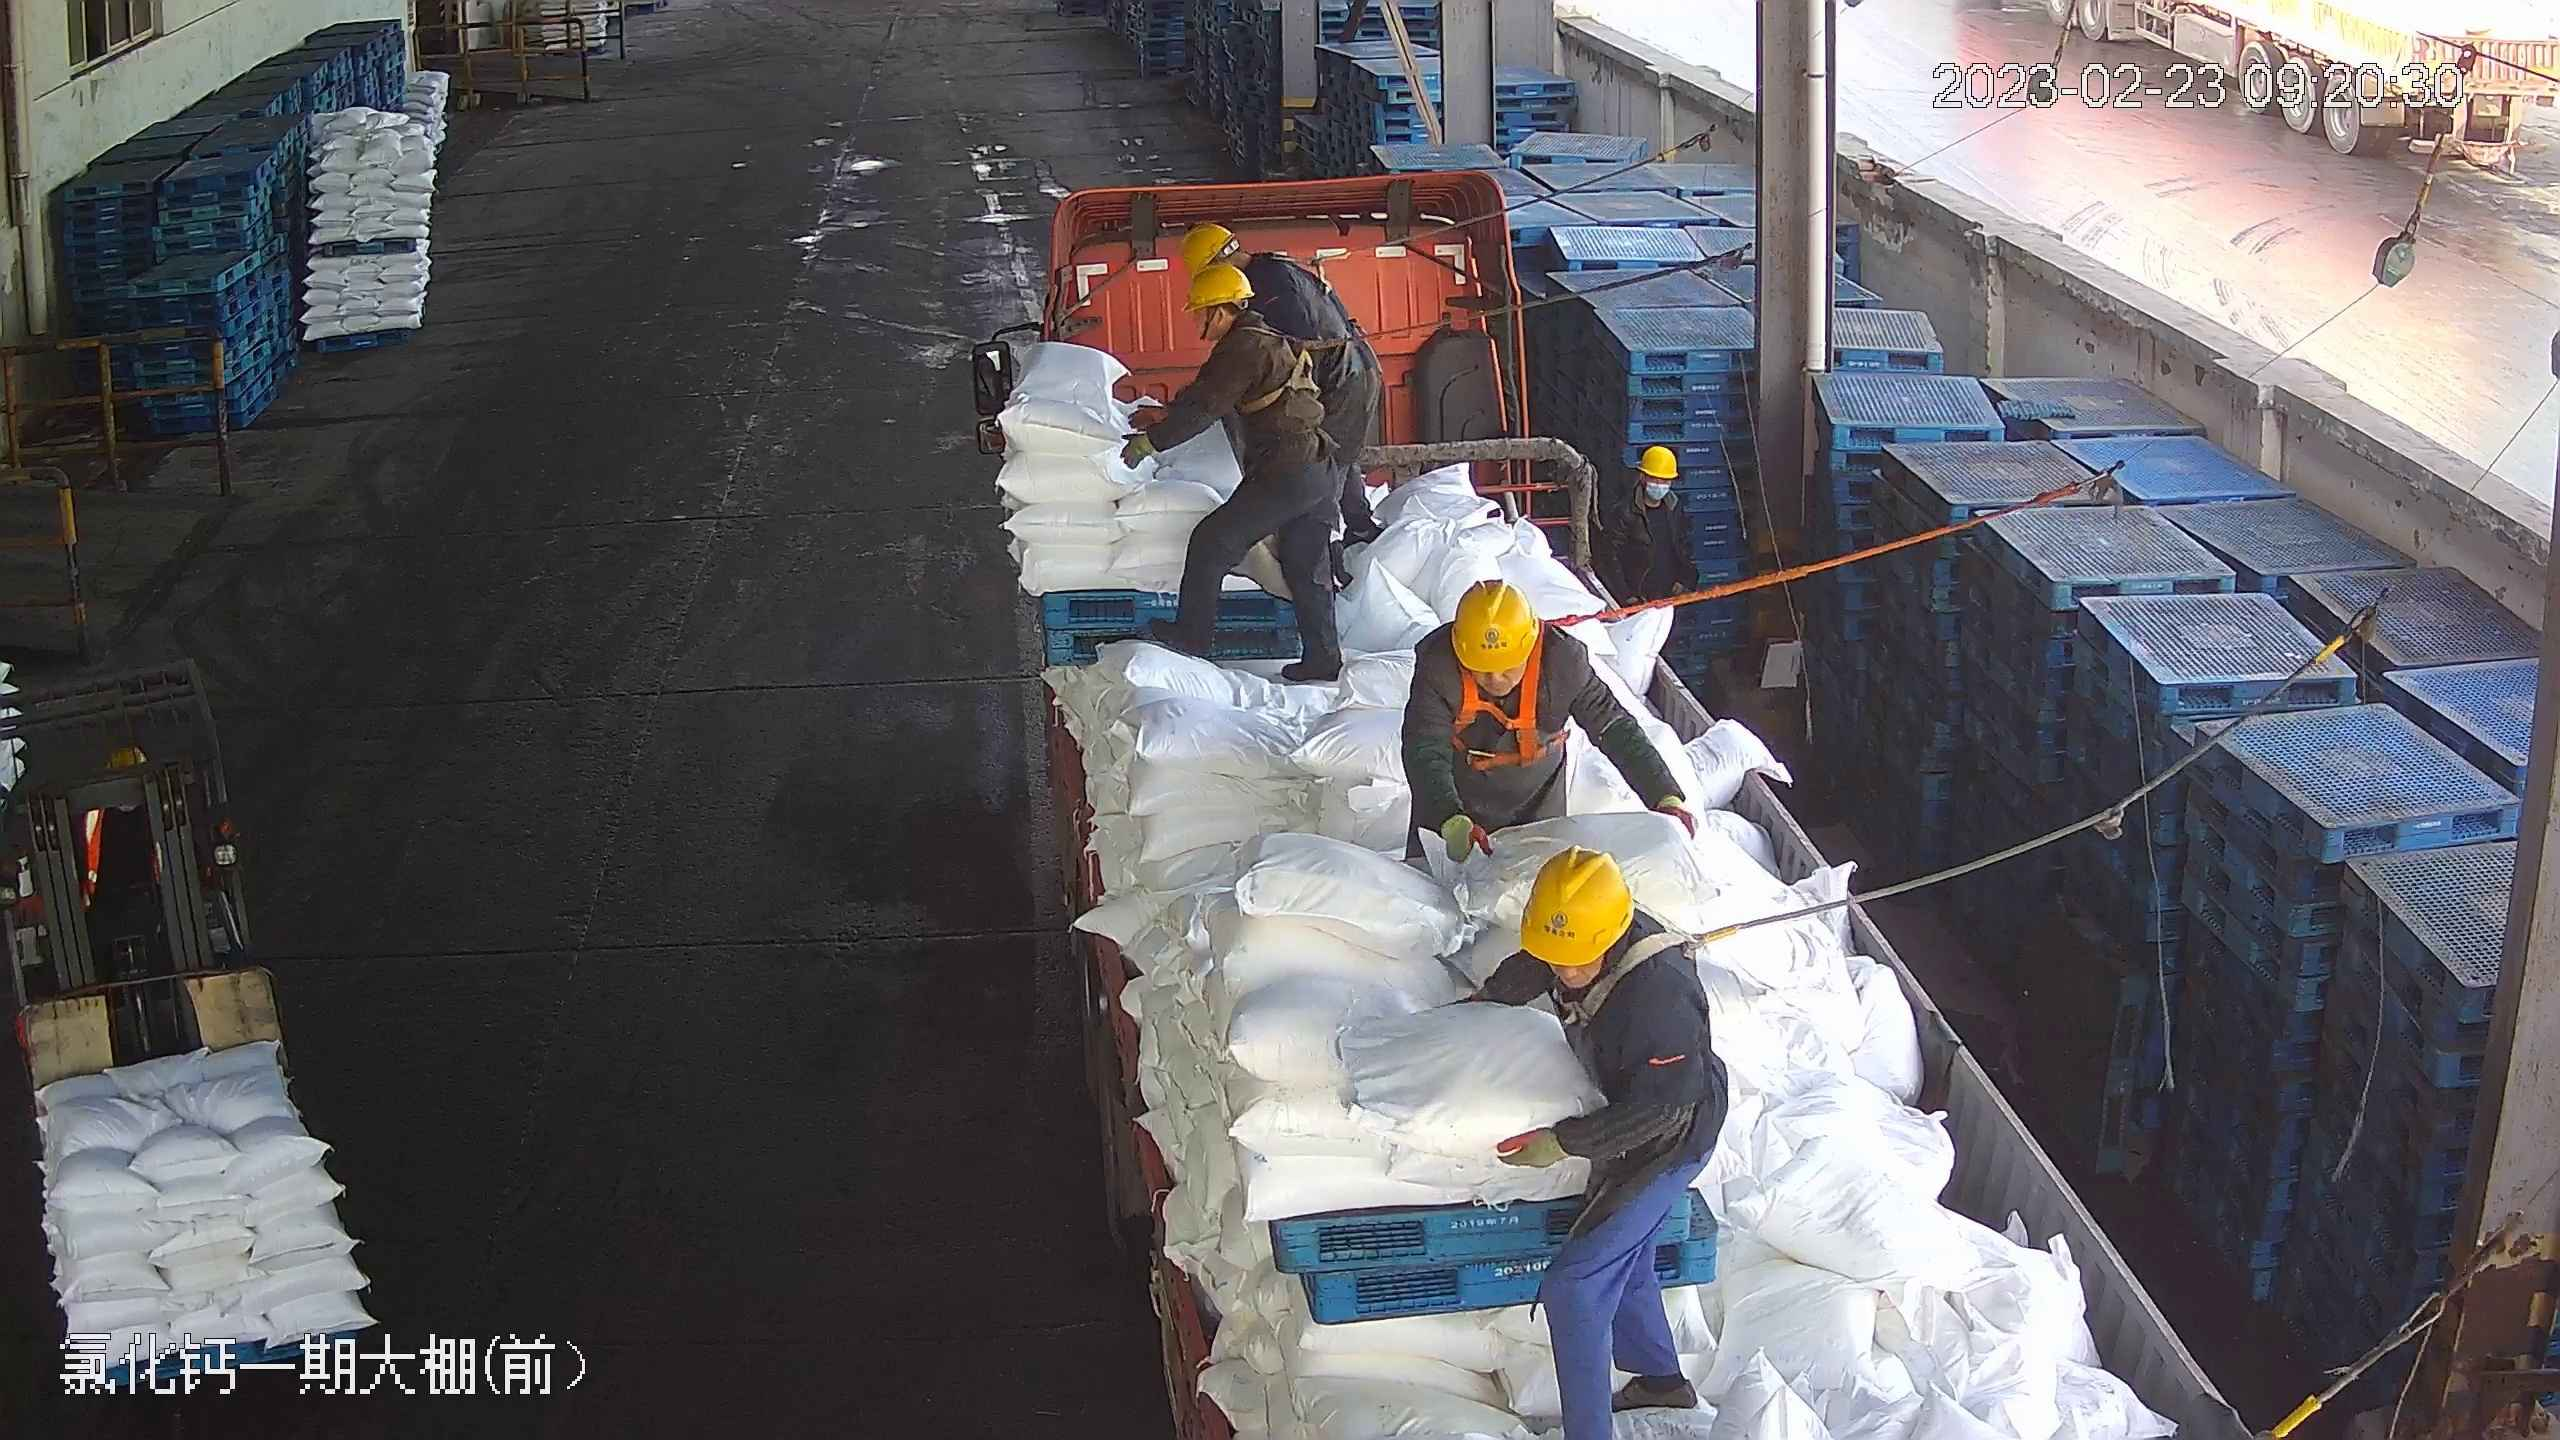belt: (1540, 909, 1738, 1049), (1440, 629, 1573, 772), (1228, 319, 1329, 413), (1283, 263, 1364, 331), (1279, 248, 1353, 300)
head: (1502, 843, 1698, 1037), (1414, 579, 1586, 718), (1182, 261, 1293, 371), (1179, 222, 1297, 304), (1610, 445, 1687, 528)
helmet: (1517, 842, 1632, 965), (1450, 577, 1538, 672), (1182, 250, 1248, 310), (1177, 222, 1236, 276), (1637, 442, 1678, 478), (103, 743, 147, 766)
people: (1461, 841, 1731, 1437), (1122, 264, 1360, 685), (1407, 577, 1712, 863), (1202, 220, 1382, 510), (1599, 441, 1694, 608)
truck: (994, 182, 2260, 1421)
